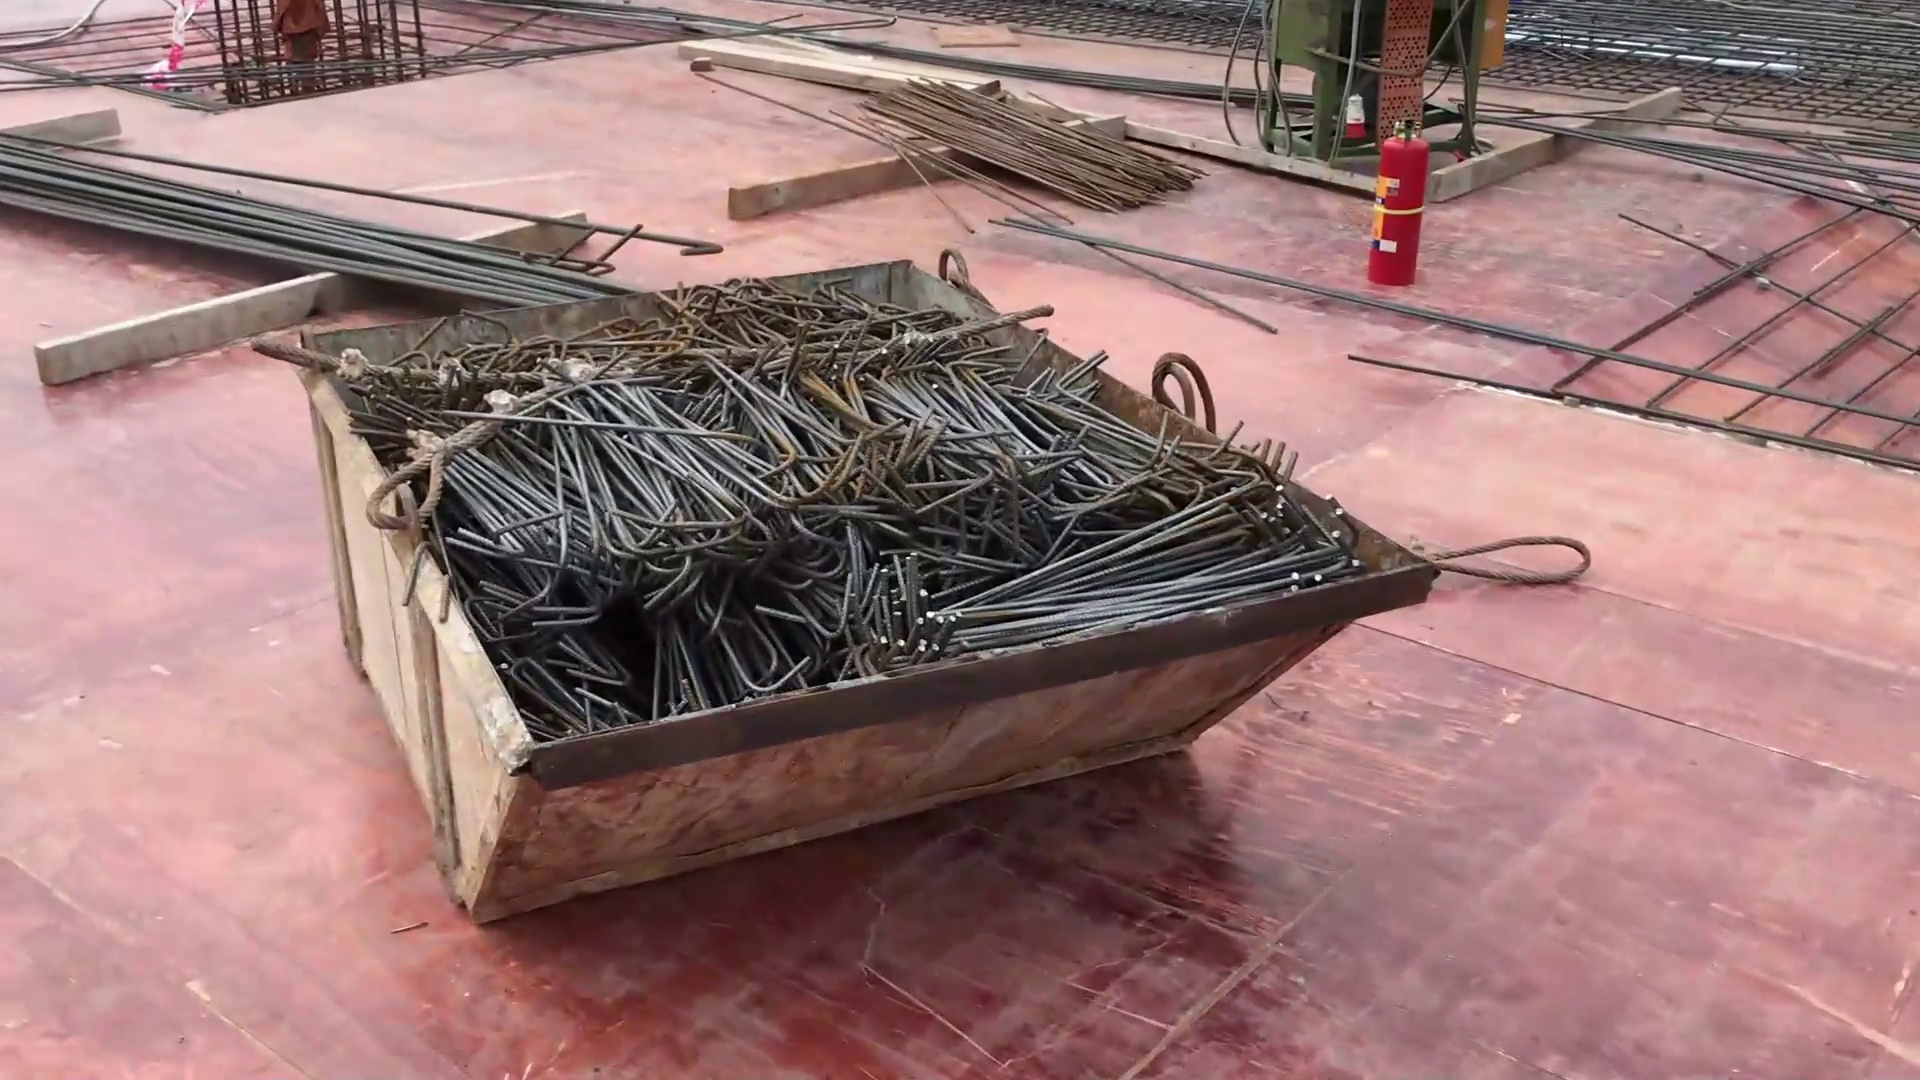hopper: (240, 247, 1451, 938)
rebar: (3, 128, 659, 310)
